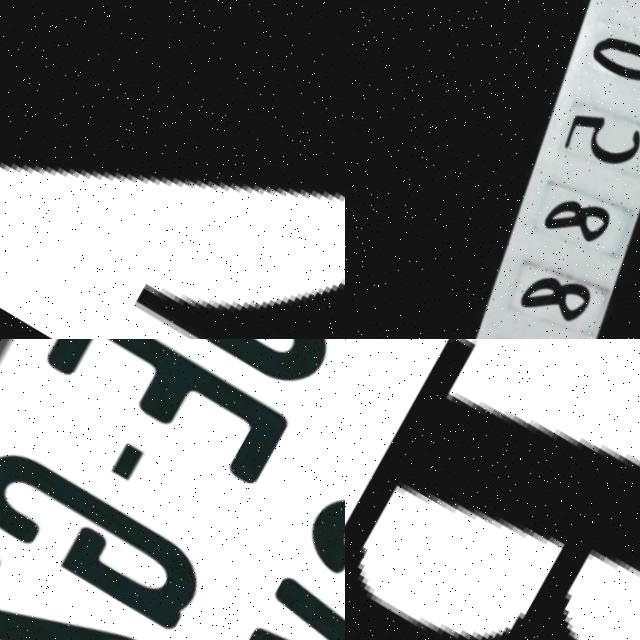0: (569, 1, 640, 106)
2: (0, 525, 161, 640)
5: (541, 80, 640, 188)
6: (86, 339, 337, 395)
8: (494, 240, 608, 339), (520, 165, 626, 262)
E: (39, 339, 294, 486)
G: (0, 436, 209, 637)
R: (345, 339, 640, 640)
Z: (0, 0, 345, 339)
